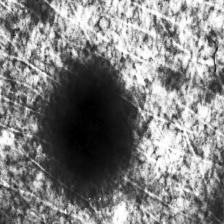Benign Marking or Mole: (55, 77, 132, 188)
